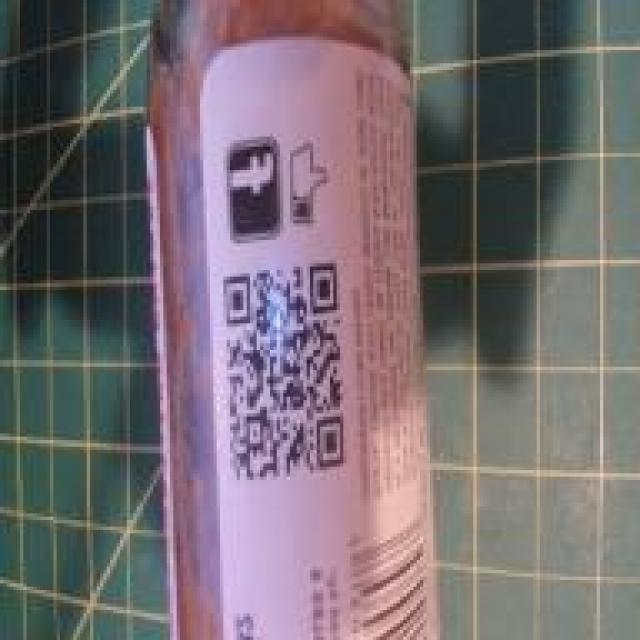QR_CODE: (217, 230, 353, 505)
